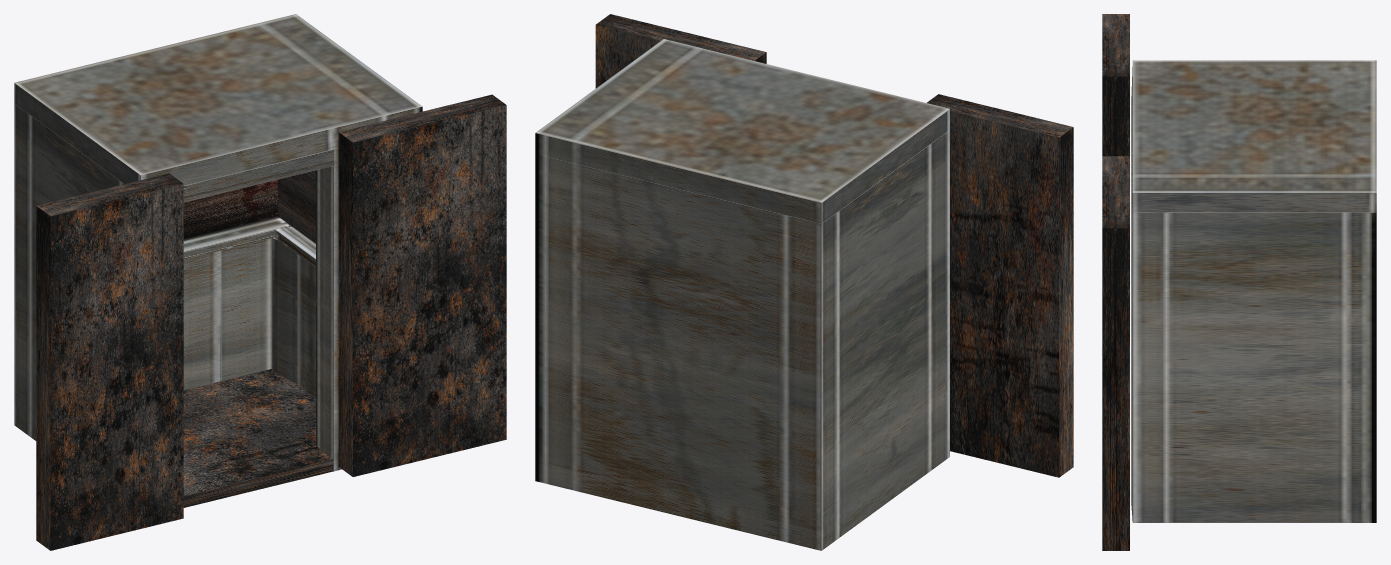
The model's file is lift.fbx.
3 renders of one model, left to right at view 1: azimuth 30°, elevation 25°; view 2: azimuth 150°, elevation 25°; view 3: azimuth 270°, elevation 25°, orthographic. The views are drawn at different scales.
Parts seen in each view (by area): view 1: pCube4, pCube11, pCube10, pCube5; view 2: pCube4, pCube10, pCube11; view 3: pCube4, pCube11, pCube10.
Part boxes in pixels (x1,y1,x2,y2): pCube4: [14, 14, 422, 470]; pCube11: [338, 94, 506, 476]; pCube10: [36, 173, 183, 550]; pCube5: [183, 369, 341, 507]; pCube4: [535, 39, 949, 550]; pCube10: [927, 94, 1073, 477]; pCube11: [595, 14, 766, 88]; pCube4: [1131, 60, 1376, 522]; pCube11: [1102, 156, 1129, 550]; pCube10: [1102, 14, 1129, 156].
Size of the model in its own units: 41.03 by 29.48 by 22.16.
